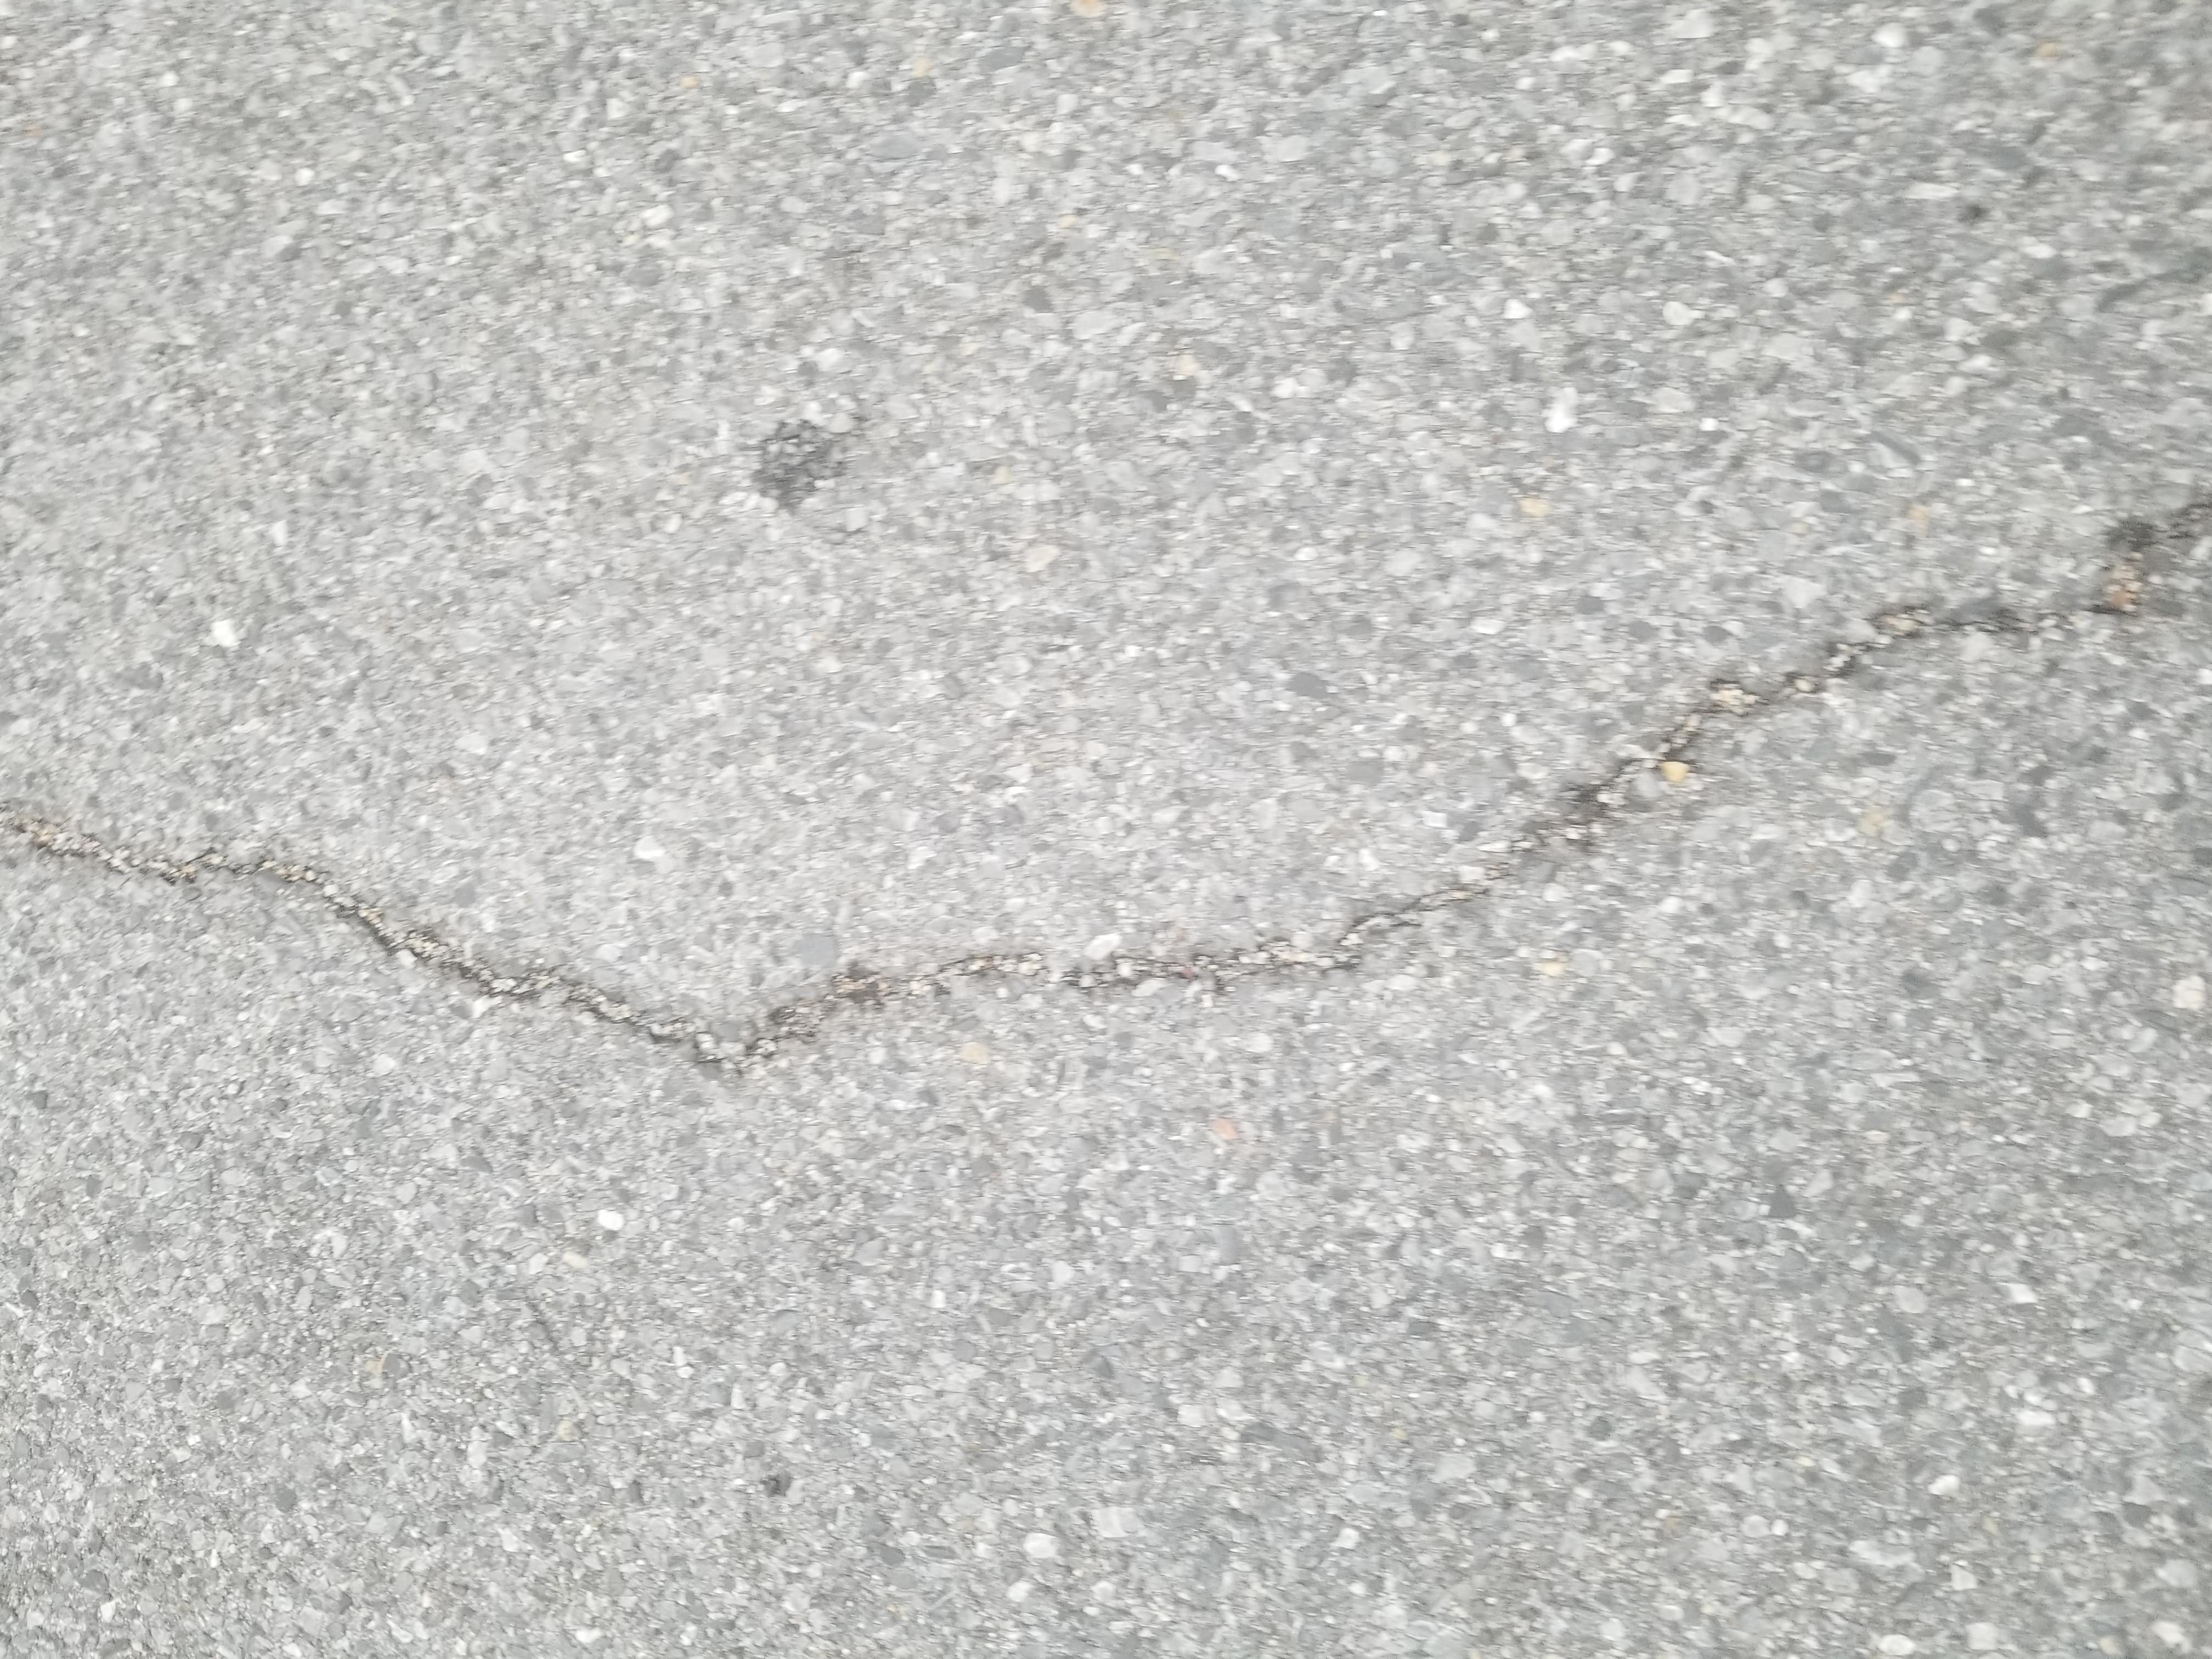crack: (733, 5, 1519, 1659)
